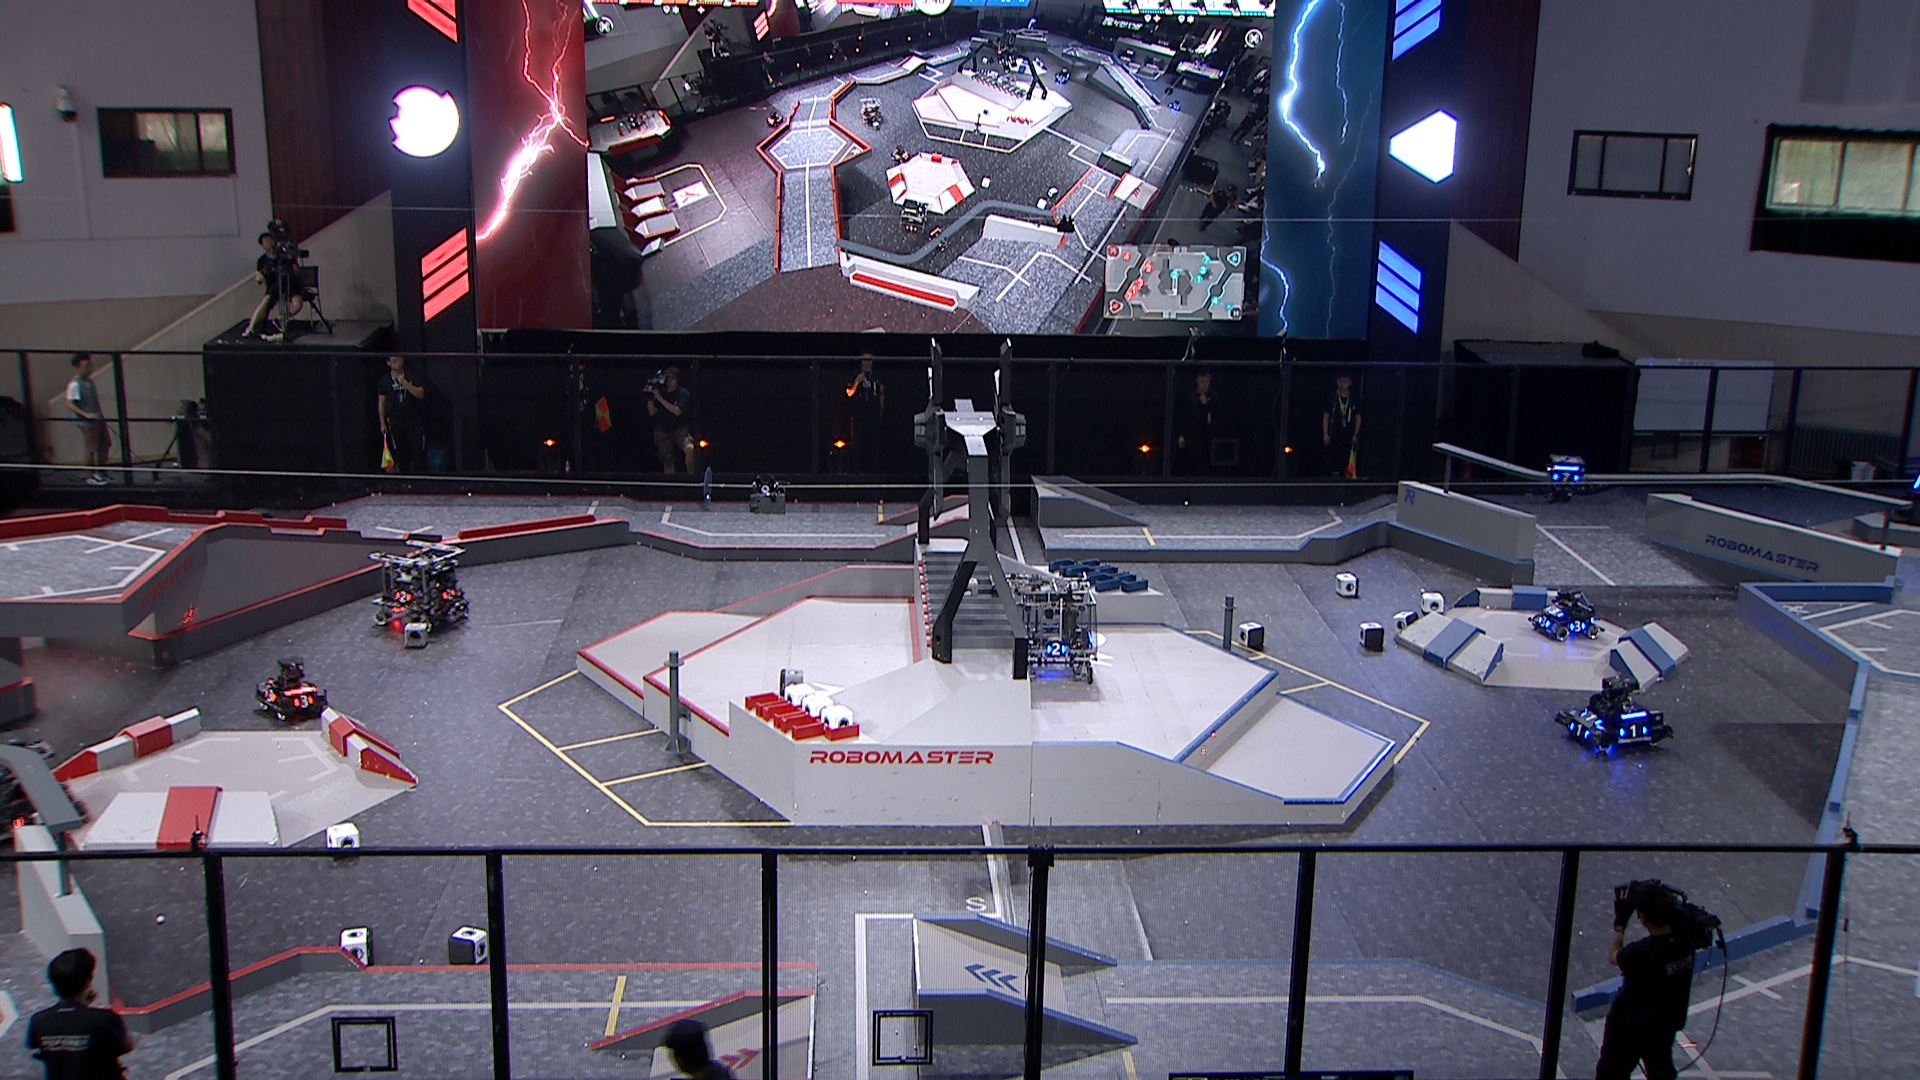armor: (11, 808, 47, 831), (1618, 725, 1648, 741), (1571, 721, 1593, 741), (1578, 709, 1604, 727), (1544, 604, 1565, 622), (291, 694, 315, 709), (1044, 642, 1068, 657), (1552, 472, 1580, 484), (1536, 613, 1556, 629), (262, 687, 280, 704), (394, 589, 413, 605), (1571, 618, 1588, 633), (442, 588, 458, 603), (1912, 472, 1920, 491)
base: (1888, 434, 1920, 531)
car: (1010, 571, 1101, 684), (371, 537, 471, 636), (1557, 675, 1673, 757), (252, 655, 330, 723), (1528, 588, 1607, 644)
ignore: (899, 200, 928, 233), (858, 98, 887, 129), (931, 225, 953, 255), (887, 144, 911, 162), (1054, 67, 1072, 86), (764, 109, 783, 127), (1025, 17, 1040, 30), (1168, 100, 1185, 112)
watcher: (1545, 454, 1588, 505)
